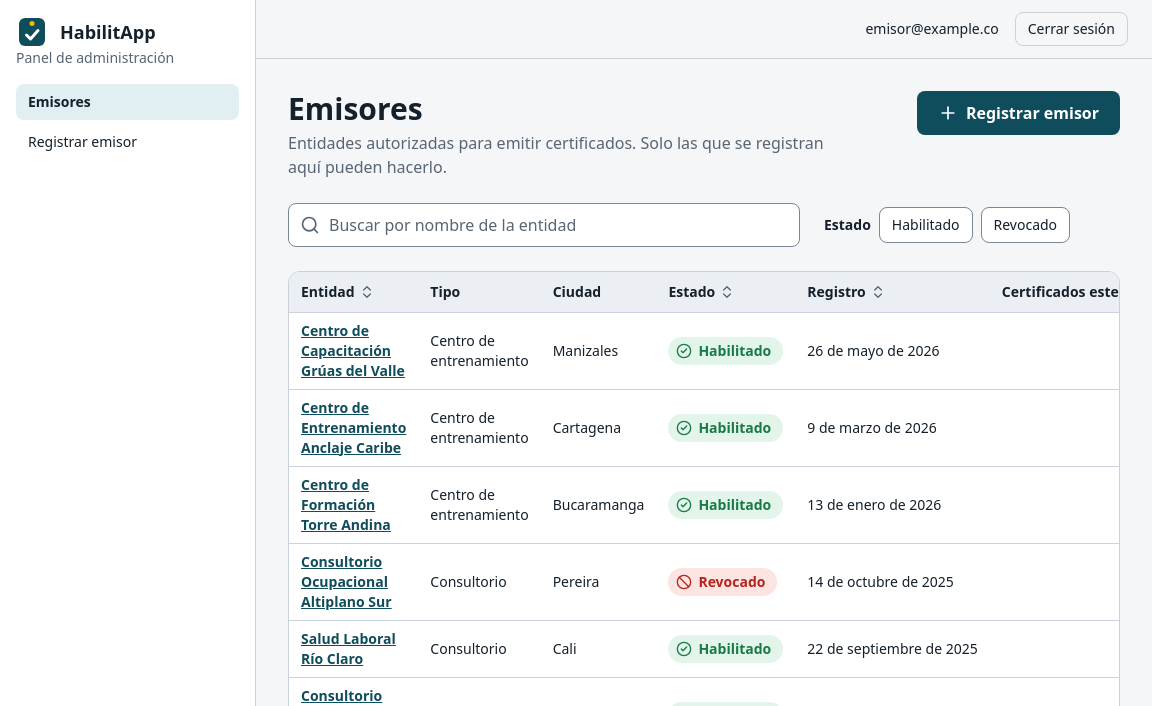
Scenario: EntitiesPage › clears the search and the filters with "Limpiar filtros"
The image size is (1152, 706).
Expected: the button "Limpiar filtros" is not shown
Type "consultorio" into the search field named "Buscar emisor por nombre" at [544, 225], box [288, 203, 800, 247]
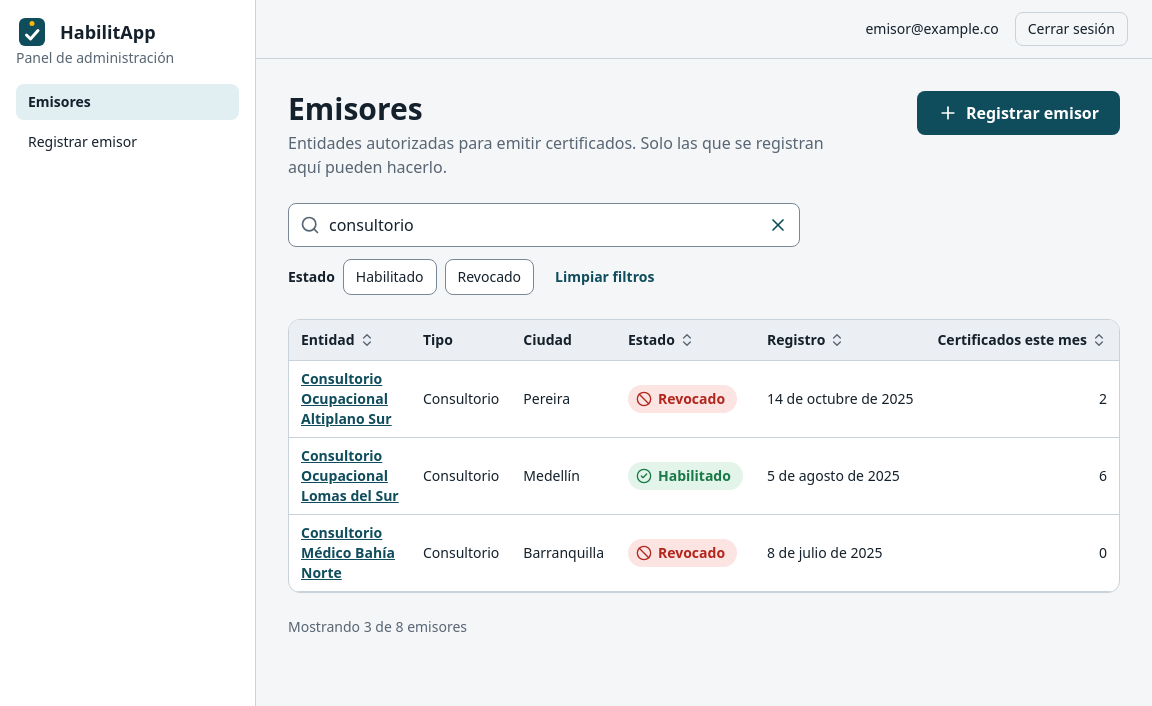
Click the button "Revocado" at [489, 277], box [444, 259, 534, 295]
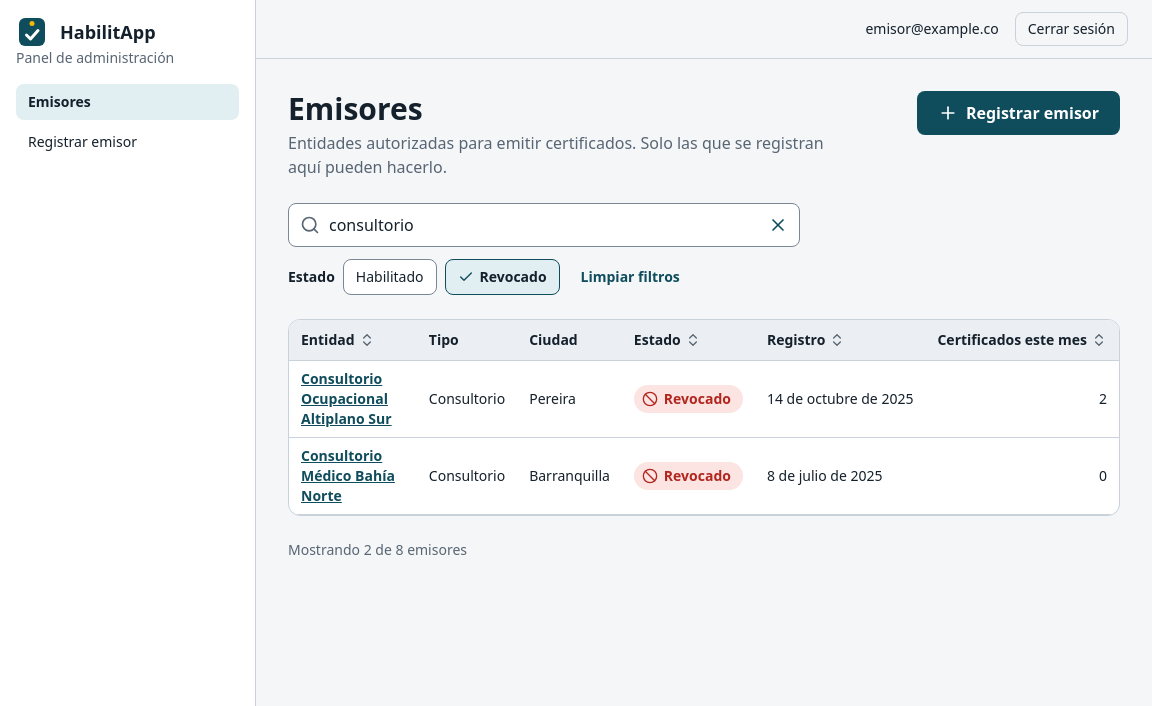
Click the button "Limpiar filtros" at [630, 277], box [568, 259, 693, 295]
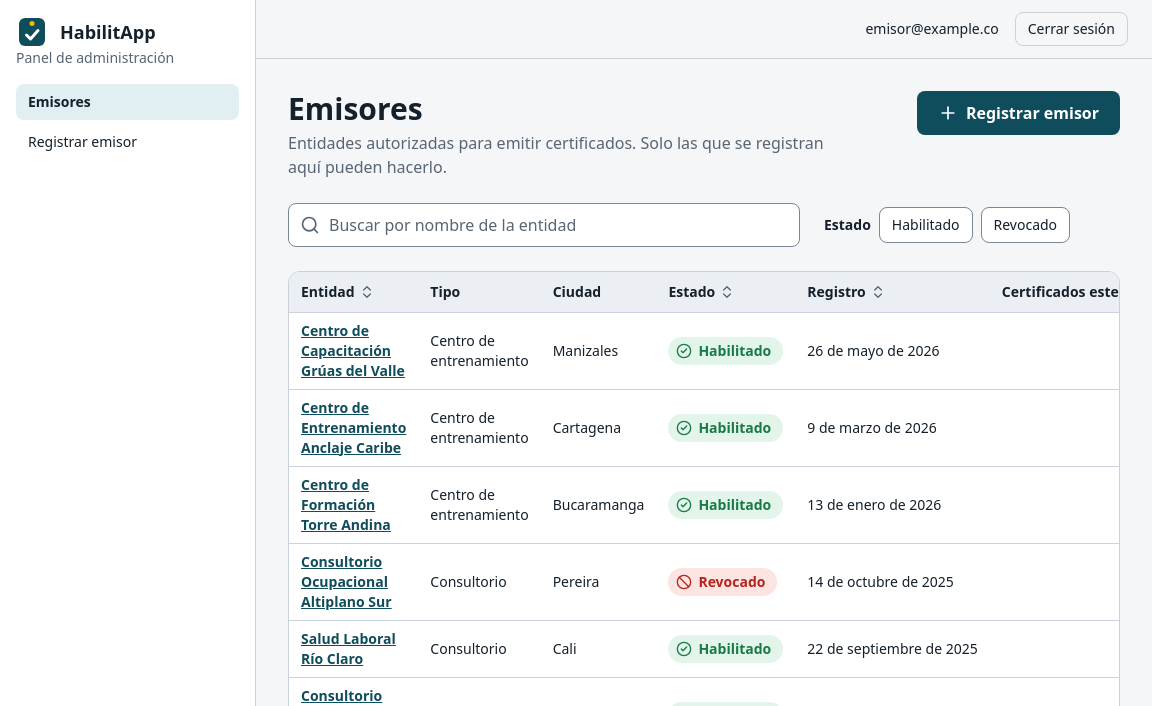
Now the search field named "Buscar emisor por nombre" is empty, box [288, 203, 800, 247]
